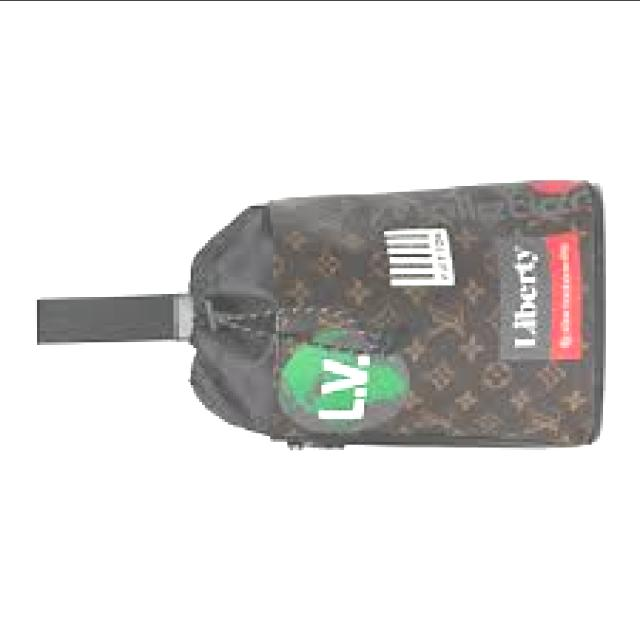backpack: (185, 160, 617, 480)
